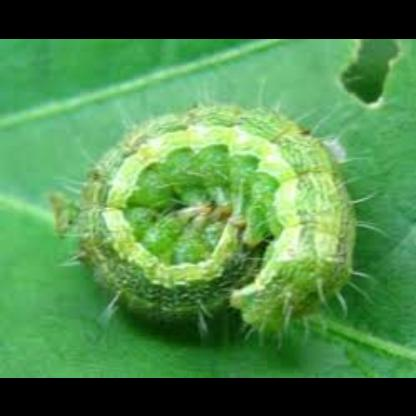agujero: (342, 39, 402, 102)
oruga: (46, 92, 370, 350)
